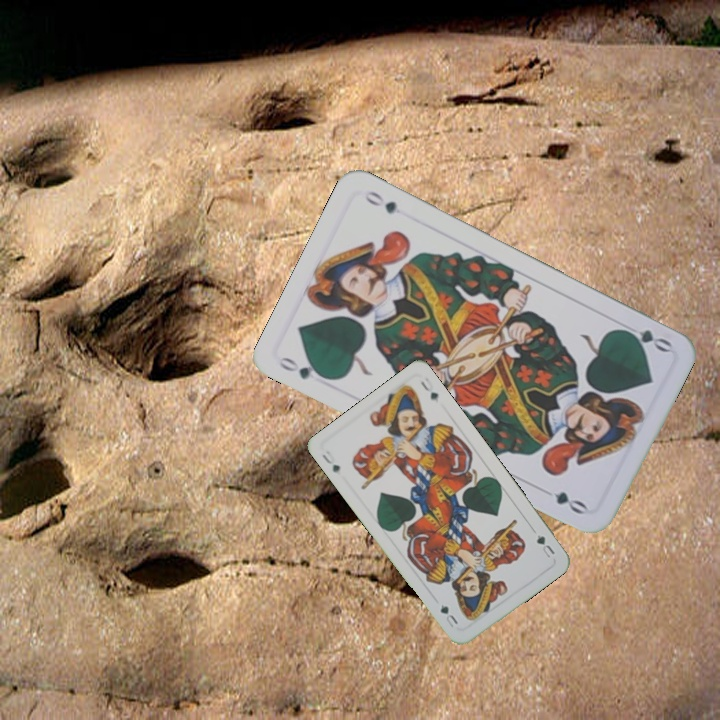GO: (615, 319, 674, 355), (275, 352, 333, 383)
GU: (532, 530, 557, 560), (318, 450, 343, 476)
